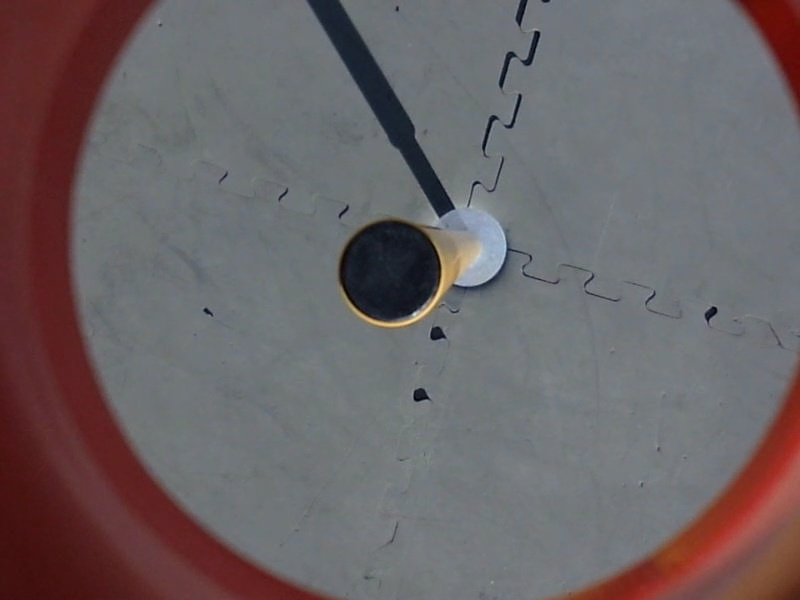tip: (329, 217, 453, 333)
